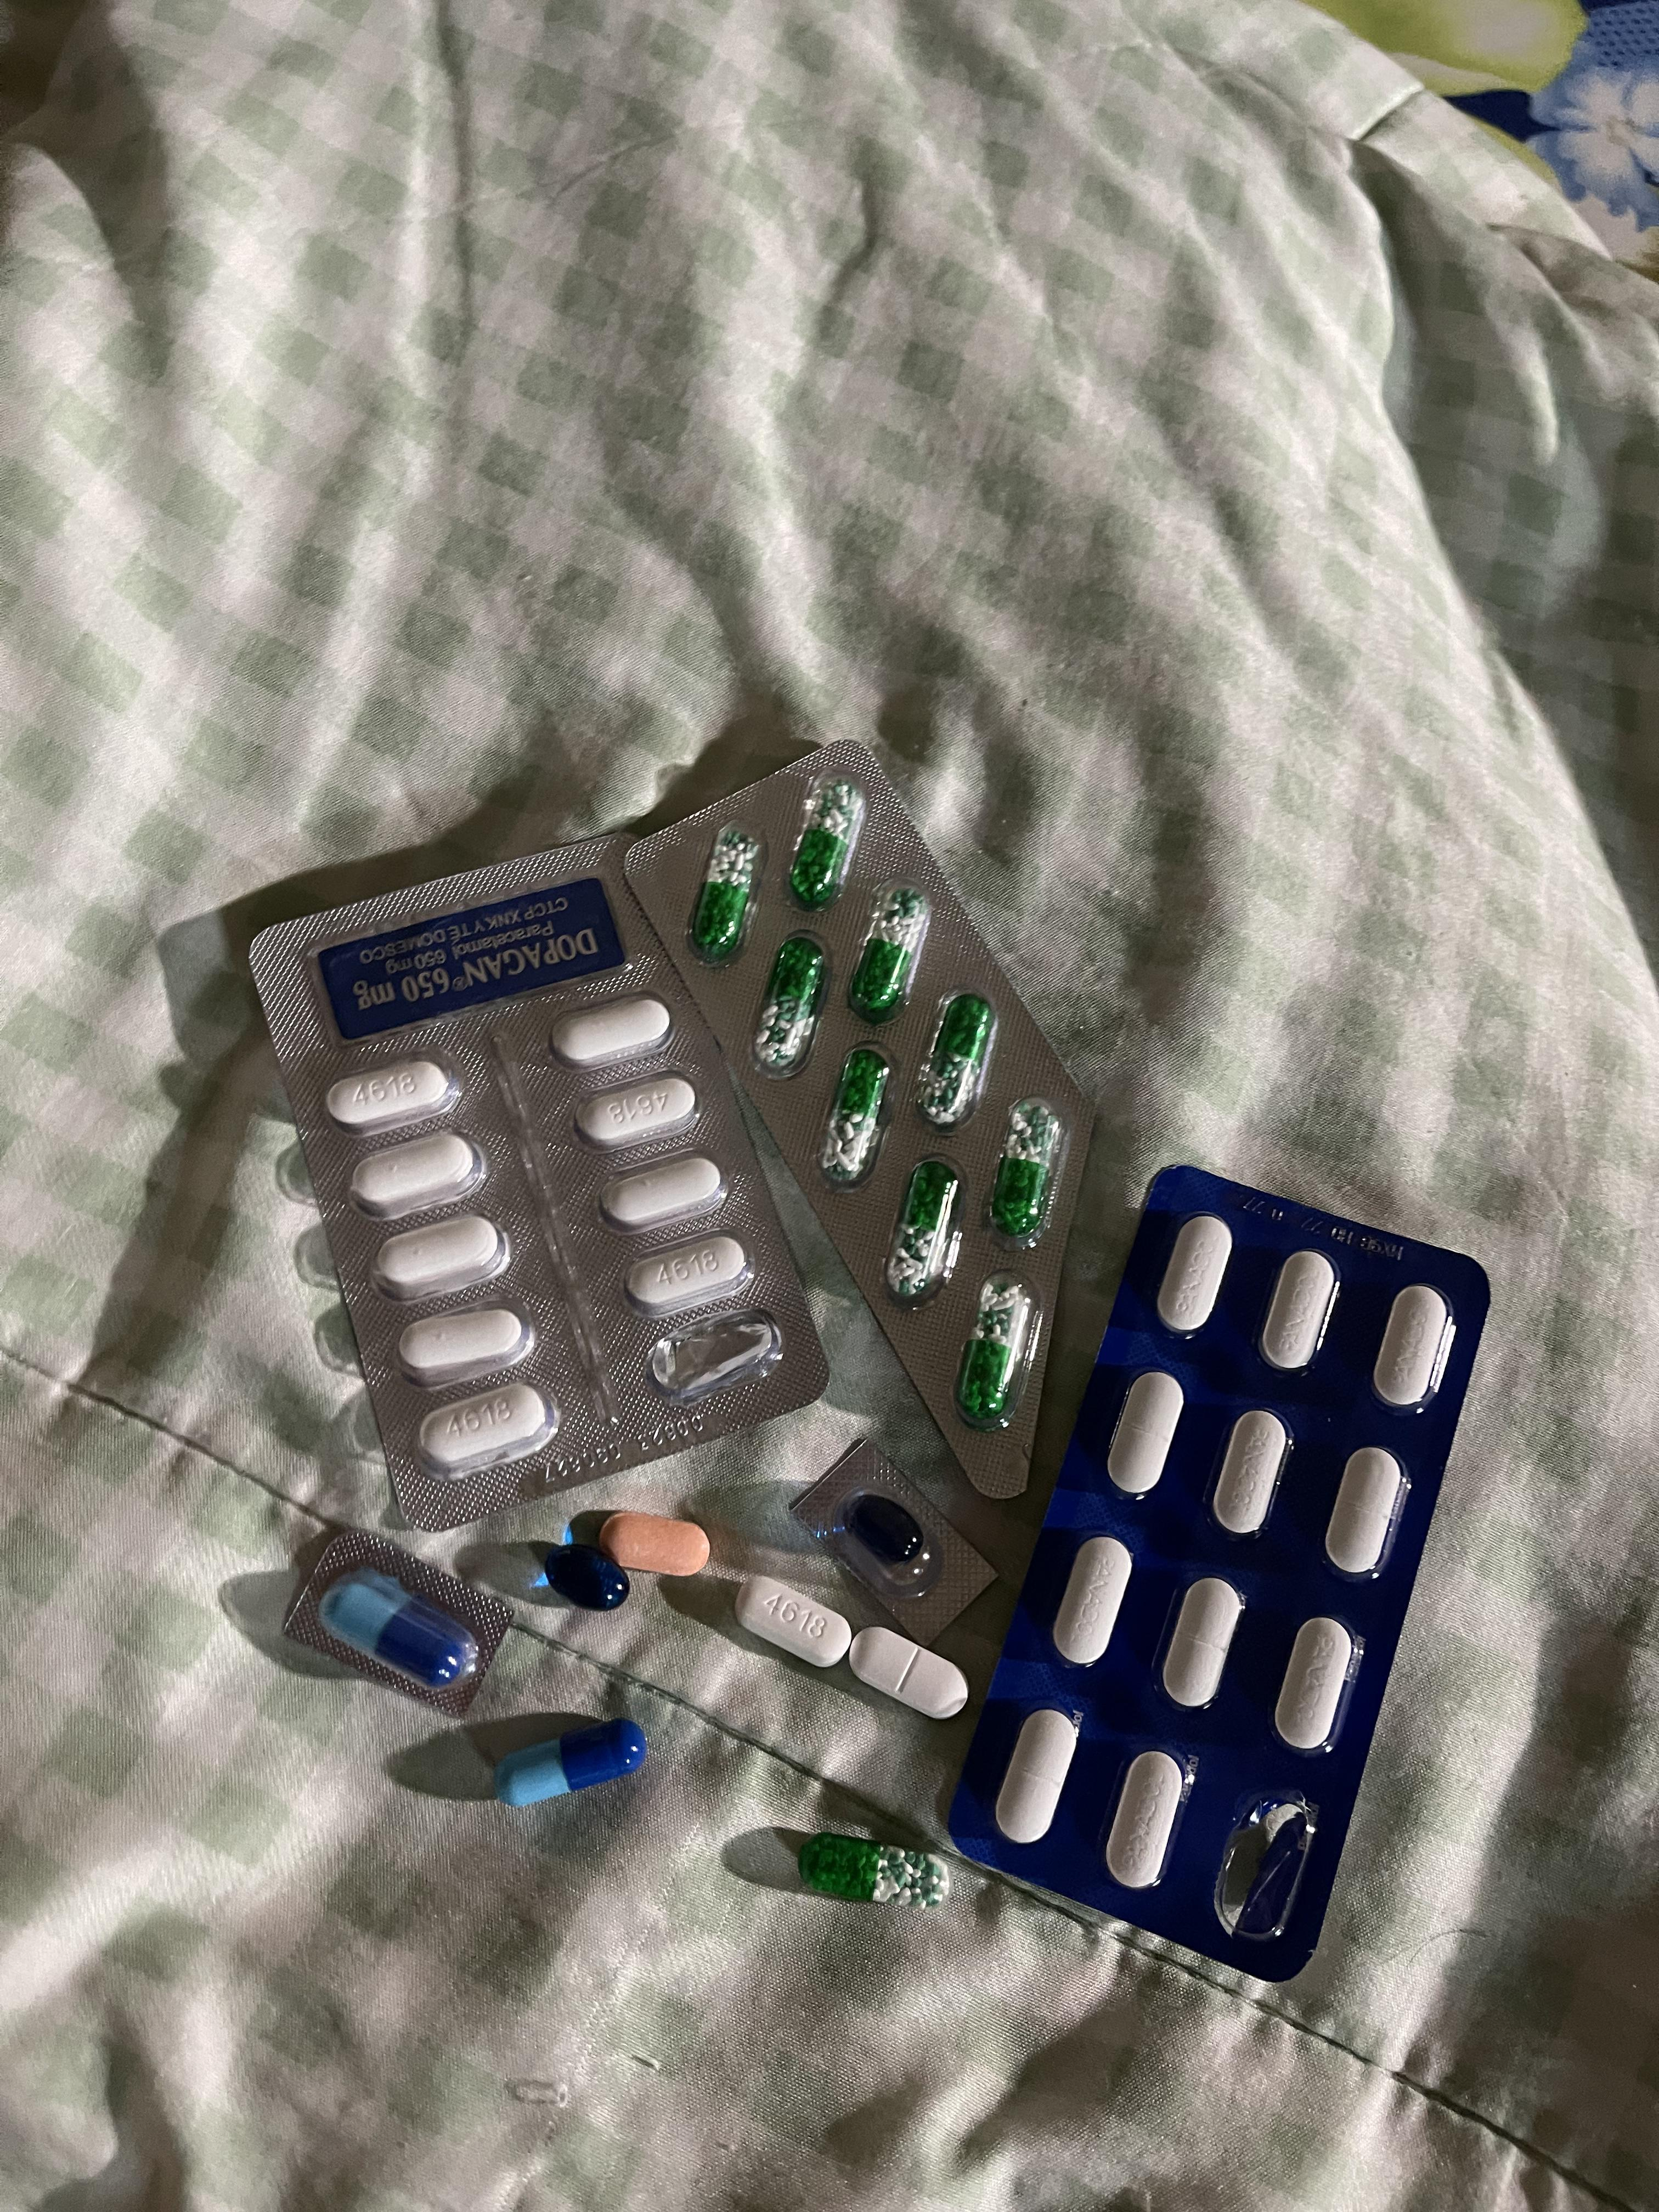Lincomyxin_500mg: (535, 1543, 629, 1611), (847, 1493, 925, 1566)
Loratadine_10mg: (599, 1514, 709, 1576)
Paracetamol_350mg: (997, 1709, 1077, 1851), (1107, 1745, 1187, 1886), (1272, 1616, 1354, 1754), (849, 1625, 965, 1719), (1324, 1447, 1406, 1580), (1159, 1576, 1241, 1707), (1209, 1411, 1290, 1538), (1371, 1285, 1452, 1409), (1058, 1538, 1133, 1669), (1260, 1251, 1340, 1369), (1108, 1371, 1183, 1493), (1157, 1216, 1232, 1329)
Paracetamol_500mg: (418, 1385, 556, 1477), (375, 1214, 509, 1303), (349, 1134, 483, 1219), (399, 1305, 530, 1385), (741, 1576, 854, 1669), (626, 1237, 746, 1315), (601, 1155, 721, 1231), (328, 1059, 453, 1132), (575, 1075, 695, 1150), (549, 998, 673, 1069)
Paracetamol_650mg: (847, 885, 931, 1021), (955, 1278, 1033, 1423), (885, 1162, 964, 1303), (798, 1831, 945, 1905), (915, 995, 997, 1123), (749, 939, 828, 1073), (817, 1052, 896, 1184), (988, 1103, 1063, 1240), (688, 829, 763, 960), (789, 782, 861, 907)
pill: (322, 1571, 481, 1691), (491, 1716, 650, 1808)
